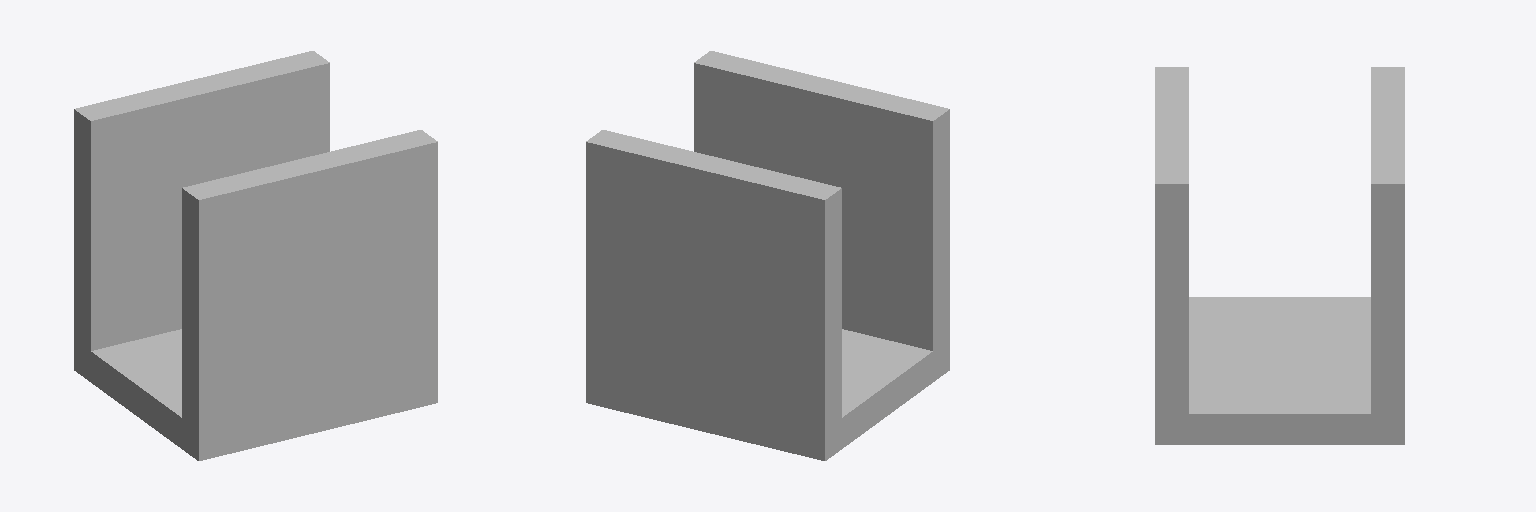
Rendered from level3_hallway.obj.
The picture shows the model from 3 angles: view 1: azimuth 30°, elevation 25°; view 2: azimuth 150°, elevation 25°; view 3: azimuth 270°, elevation 25°; orthographic projection.
Visible parts, largest first — view 1: Hallway_Cube.001; view 2: Hallway_Cube.001; view 3: Hallway_Cube.001.
Boxes of the visible parts, box(x1,y1,x2,y2) form: Hallway_Cube.001: box(74, 51, 437, 460); Hallway_Cube.001: box(586, 51, 949, 460); Hallway_Cube.001: box(1155, 67, 1404, 444).
Size of the model in its own units: 8 by 8.34 by 7.22.